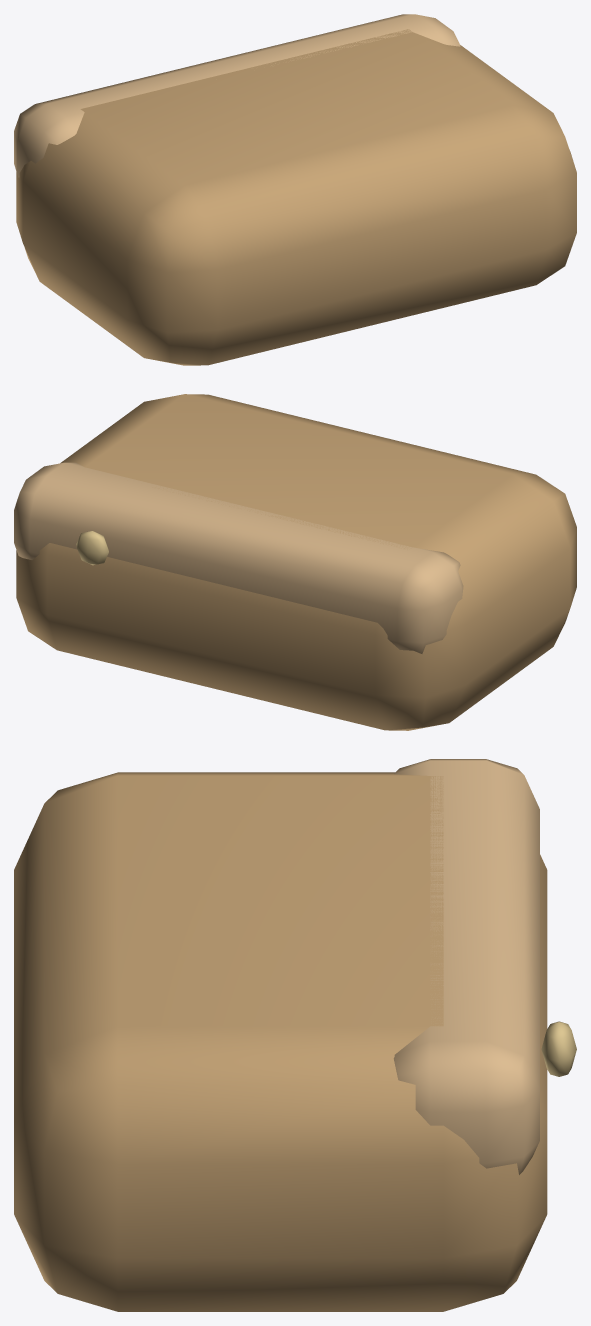
Rendered from wallet.glb.
The picture shows the model from 3 angles, top to bottom: view 1: azimuth 30°, elevation 25°; view 2: azimuth 150°, elevation 25°; view 3: azimuth 270°, elevation 25°; orthographic projection. The views are drawn at different scales.
Size of the model in its own units: 0.27 by 0.105 by 0.19.
